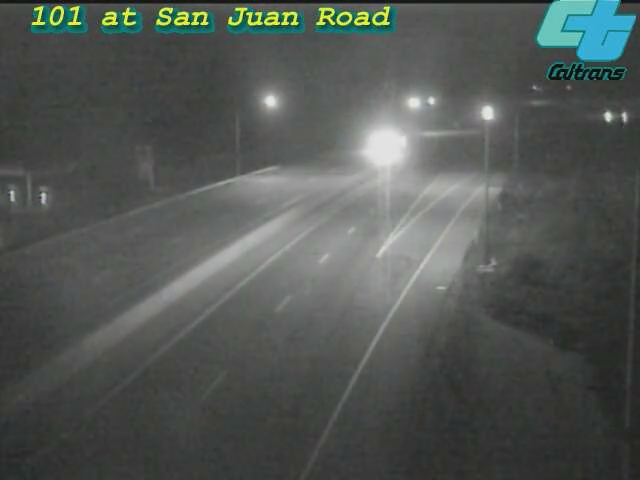vehicle: (359, 121, 409, 171), (585, 93, 635, 143), (462, 88, 512, 138)
